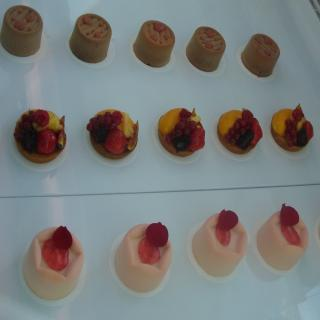Strawberry: (36, 128, 58, 153), (106, 127, 126, 153), (303, 120, 315, 142), (253, 121, 263, 146), (194, 128, 204, 150)
